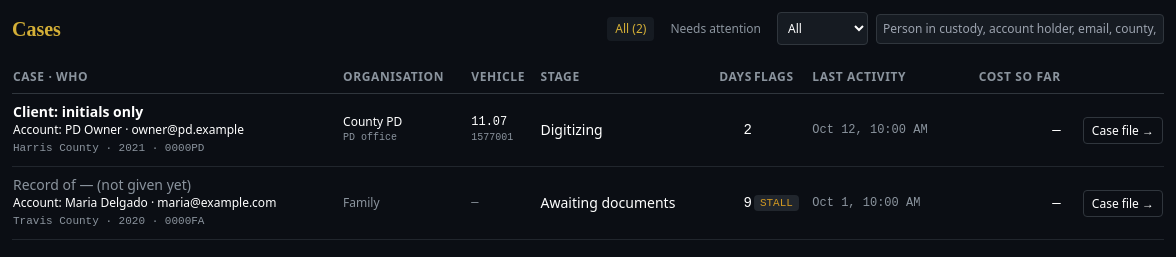
Scenario: Cases: organisation and vehicle columns (G5) › shows the organisation and vehicle per case and filters by organisation kind
Expected: the table with test id "cases-table" shows "County PD", [343,113,402,130]
Expected: the cell with test id "org-c_pd" reads "County PD PD office", [342,94,470,166]
Select "PD offices" in the dropdown with test id "kind-filter": (822, 28) [777,12,868,45]
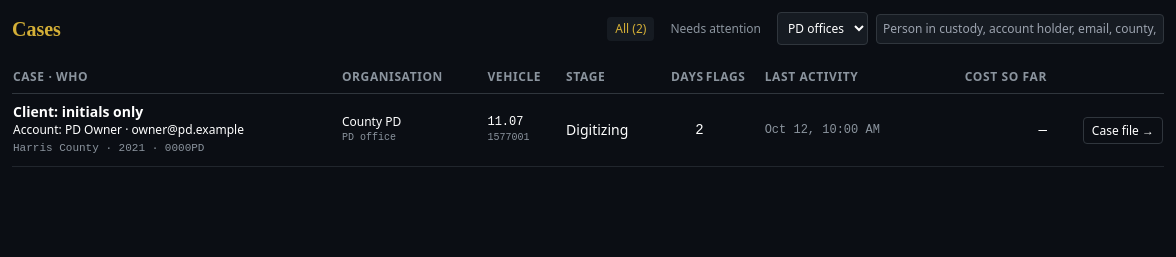
Expected: the table with test id "cases-table" shows "County PD", [342,113,401,130]
Result: the table with test id "cases-table" no longer shows "Maria Delgado" at [12,61,1164,167]
Select "Families" in the dropdown with test id "kind-filter": (822, 28) [777,12,868,45]
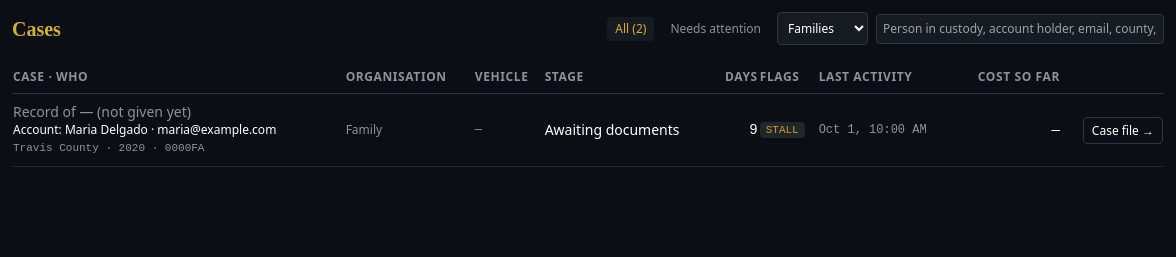
Result: the table with test id "cases-table" shows "Maria Delgado" at [13,121,276,138]
Result: the table with test id "cases-table" no longer shows "County PD" at [12,61,1164,167]
